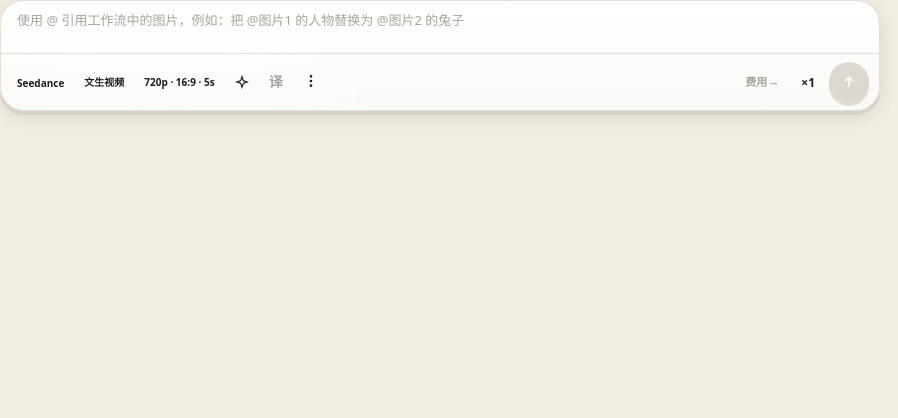
Test case: workflow node overlays › defaults a blank video node to its first mapped model and exposes ratio and duration
Check: the text "Seedance" is shown, box [17,76,64,91]
Click the button titled "生成参数": (179, 82) [138,70,221,94]
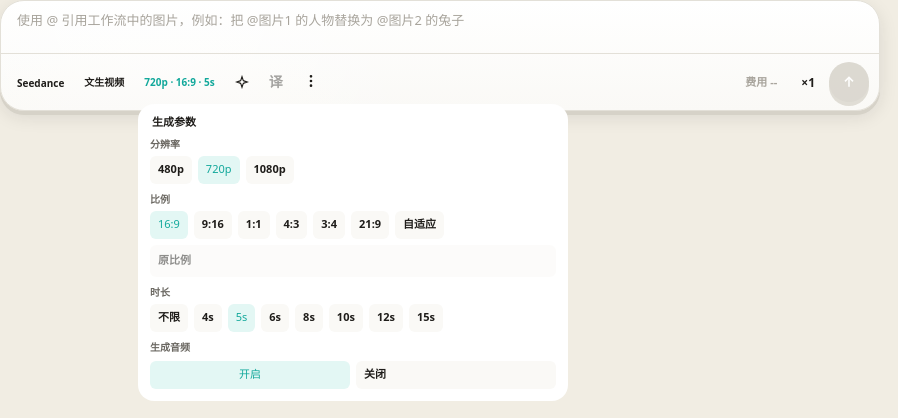
Check: the text "比例" is shown, box [150,192,170,206]
Check: the button "16:9" is shown, box [150,210,188,238]
Check: the button "4s" is shown, box [194,304,222,332]
